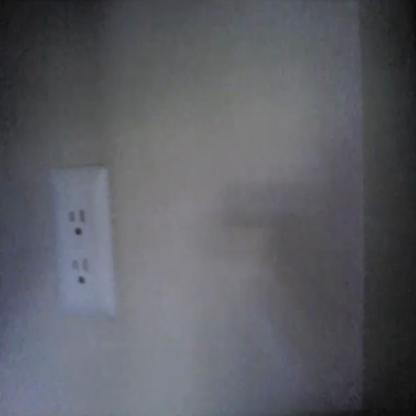OUTLET: (50, 167, 113, 317)
